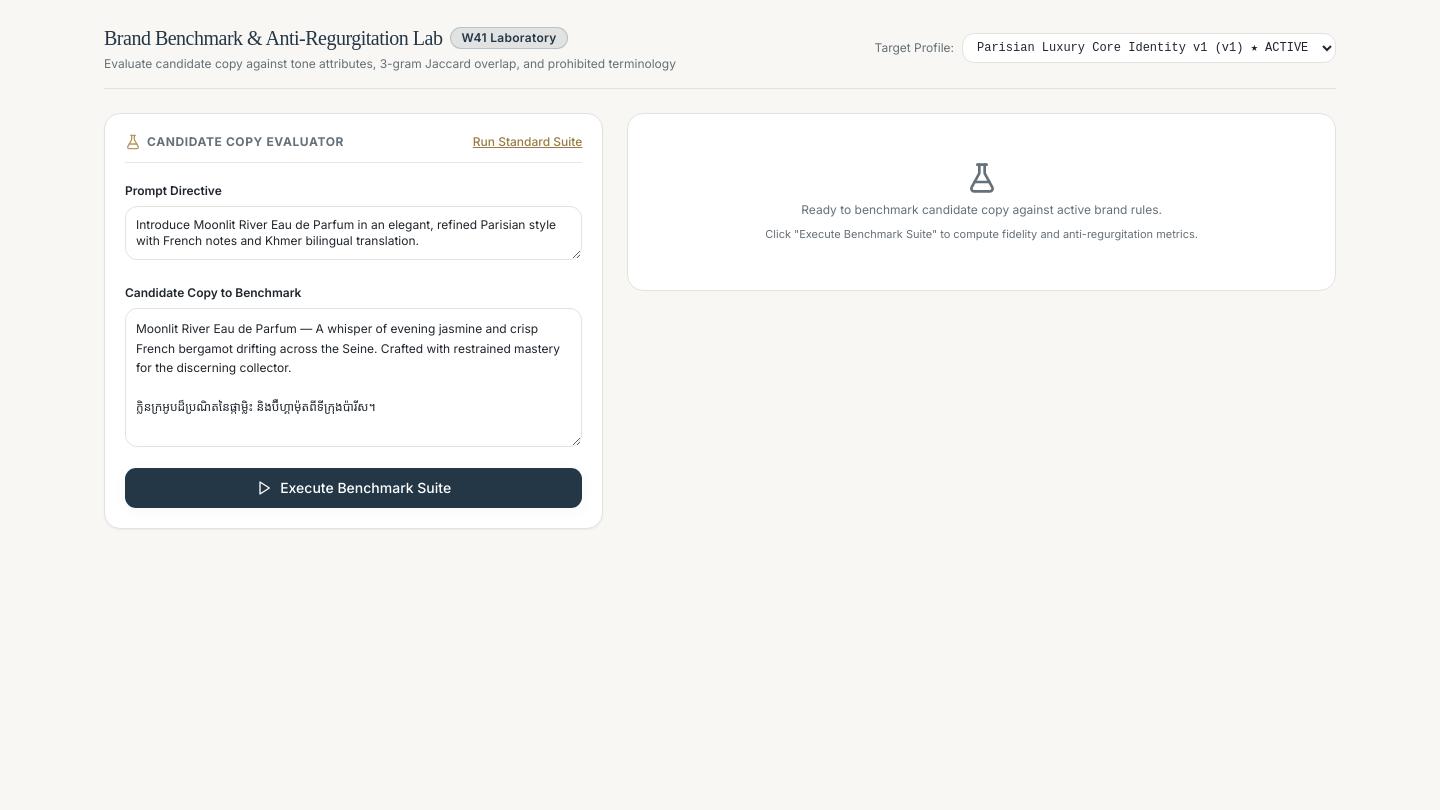
Test: Brand Intelligence Studio (WEB-BRAND-01 to WEB-BRAND-04) › BrandBenchmarkLabPage › executes interactive candidate benchmark and displays score metrics
This screenshot has width=1440, height=810.
Click the button "Execute Benchmark Suite" at {"x": 354, "y": 488}, box [125,468,582,508]
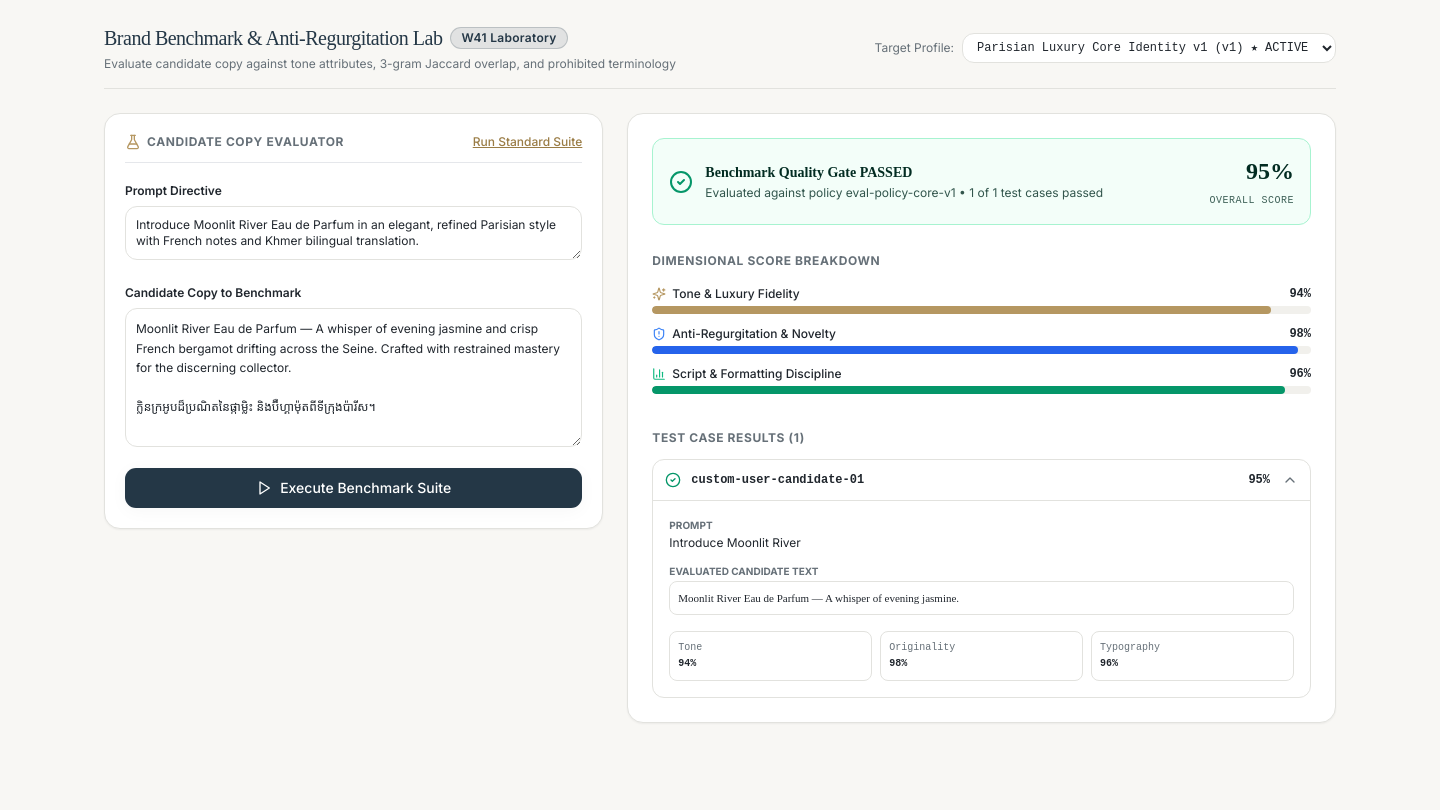
Expected: the heading "Benchmark Quality Gate PASSED" is shown, [705,164,912,180]
Expected: the text "Overall Score" is shown, [1210,195,1294,206]
Expected: the text "95%" next to "test cases passed" is shown, [1246,158,1294,184]
